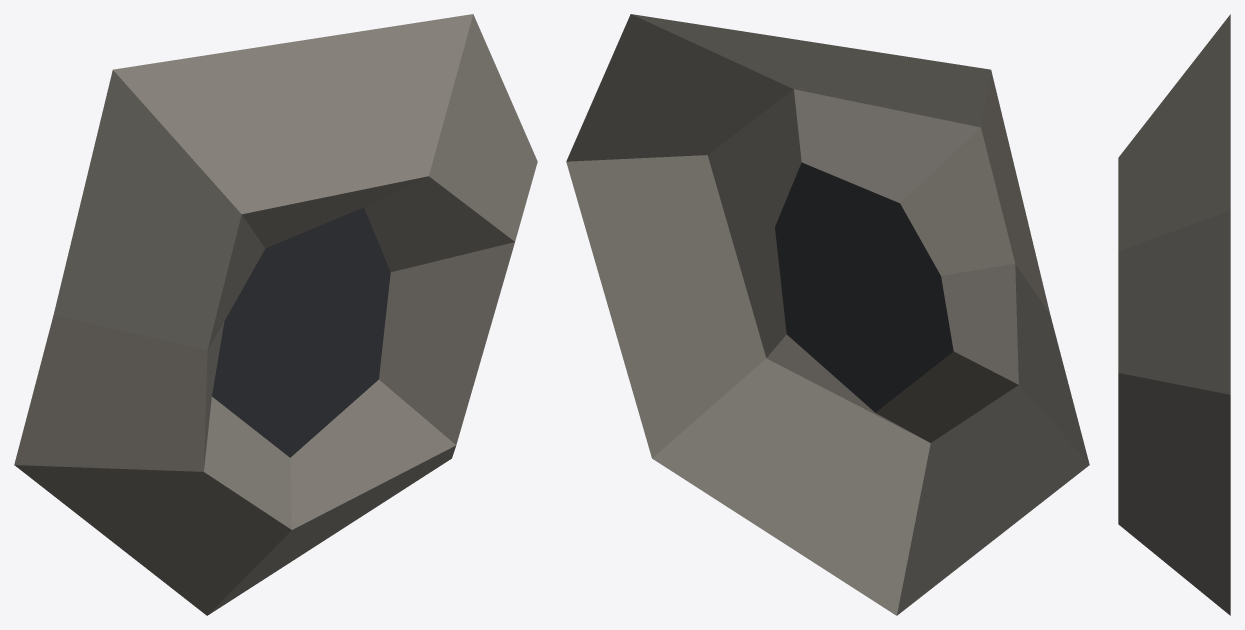
The model's file is SM_Bullet_Hole_C.gltf.
3 renders of one model, left to right at view 1: azimuth 30°, elevation 25°; view 2: azimuth 150°, elevation 25°; view 3: azimuth 270°, elevation 25°, orthographic. The views are drawn at different scales.
Visible parts, largest first — view 1: SM_Bullet_Hole_C; view 2: SM_Bullet_Hole_C; view 3: SM_Bullet_Hole_C.
Part boxes in pixels (bbox=[...]): SM_Bullet_Hole_C: bbox=[14, 14, 537, 615]; SM_Bullet_Hole_C: bbox=[566, 14, 1089, 615]; SM_Bullet_Hole_C: bbox=[1118, 14, 1230, 615].
Size of the model in its own units: 0.2454 by 0.255 by 0.0482.
1 material, 1 textured.
